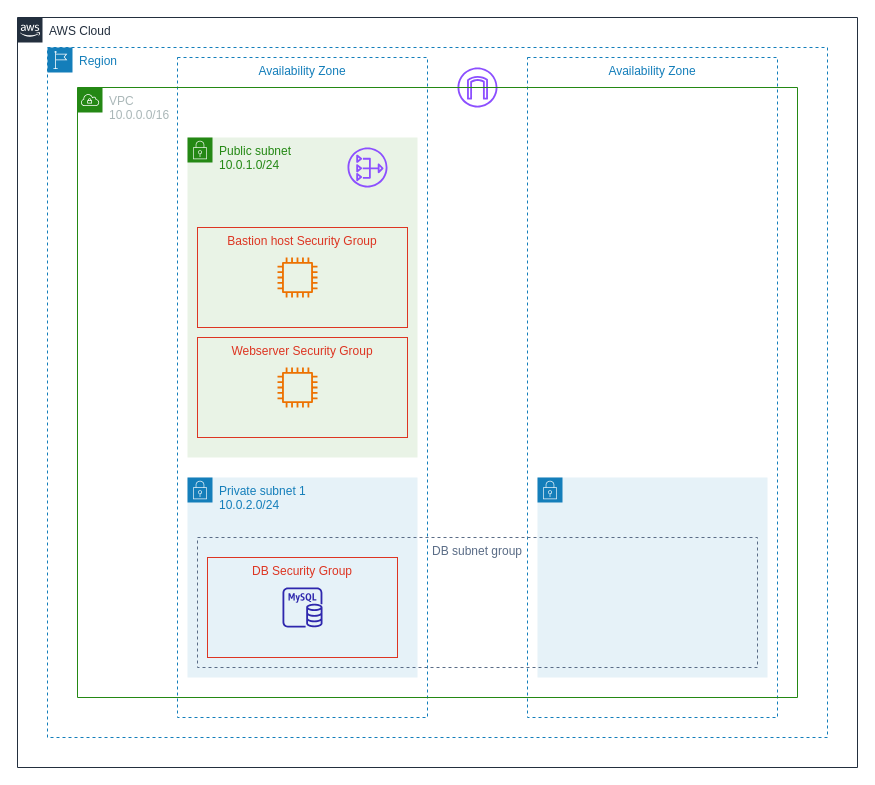
Some shapes in this 875 by 785 pixel diagram are drawn without their labels. The centre of each missing label's shape, as x and y in pixels:
Bastion host: [297,277]
EC2 instance: [297,387]
Internet gateway: [477,87]
NAT gateway: [367,167]
Private subnet 2 10.0.3.0/24: [652,577]
RDS instance: [302,607]
